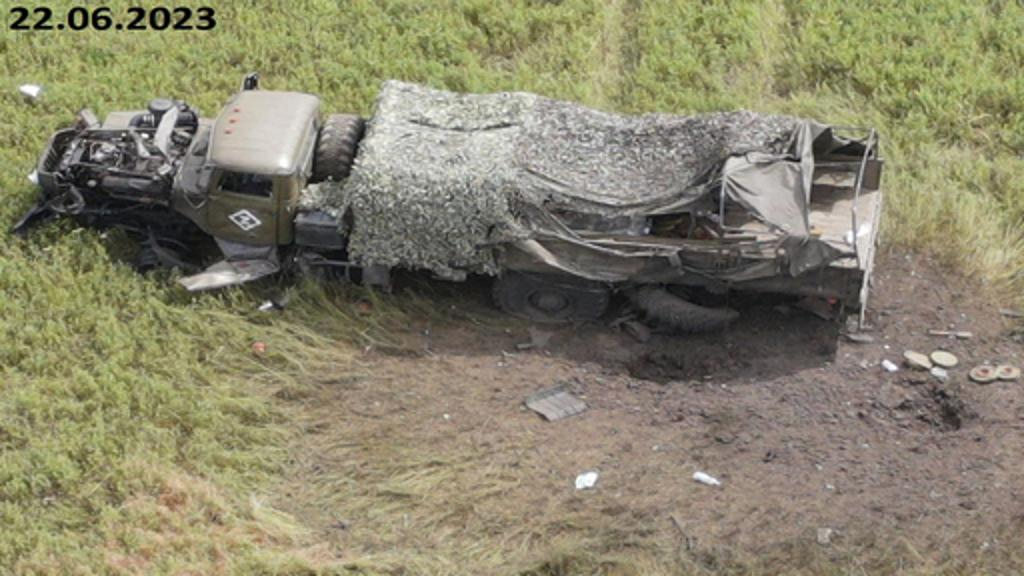TRUCK: (8, 70, 892, 370)
